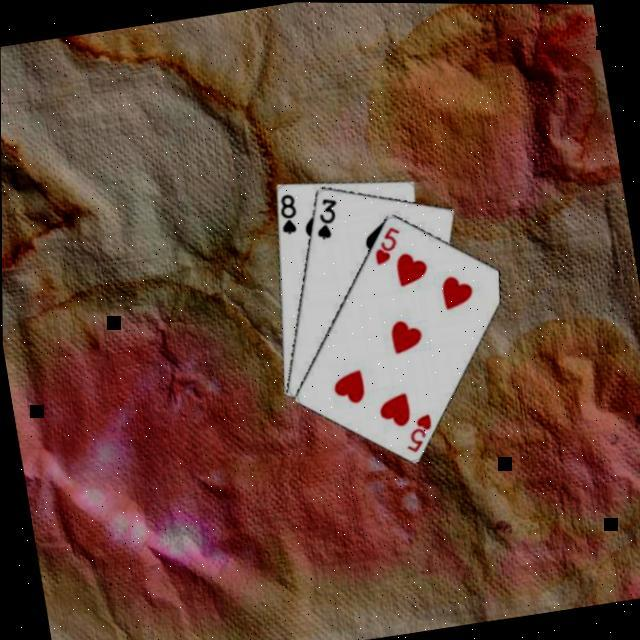3S: (307, 192, 343, 242)
5H: (366, 220, 406, 267), (396, 408, 436, 455)
8S: (272, 188, 300, 237)
